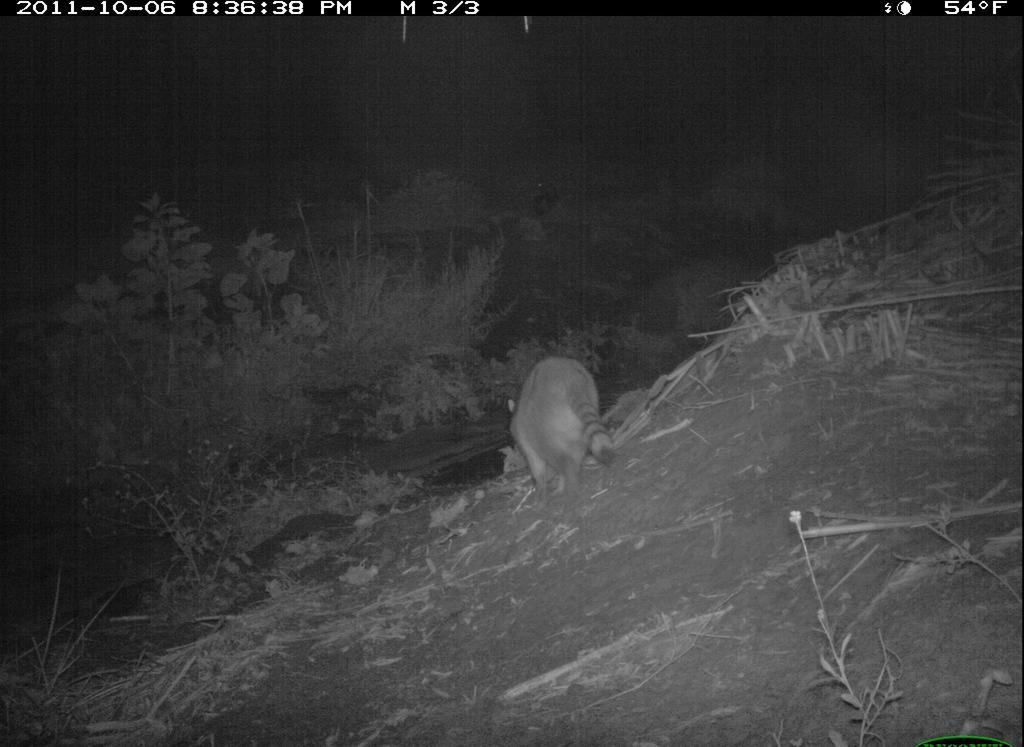raccoon: (501, 353, 623, 501)
